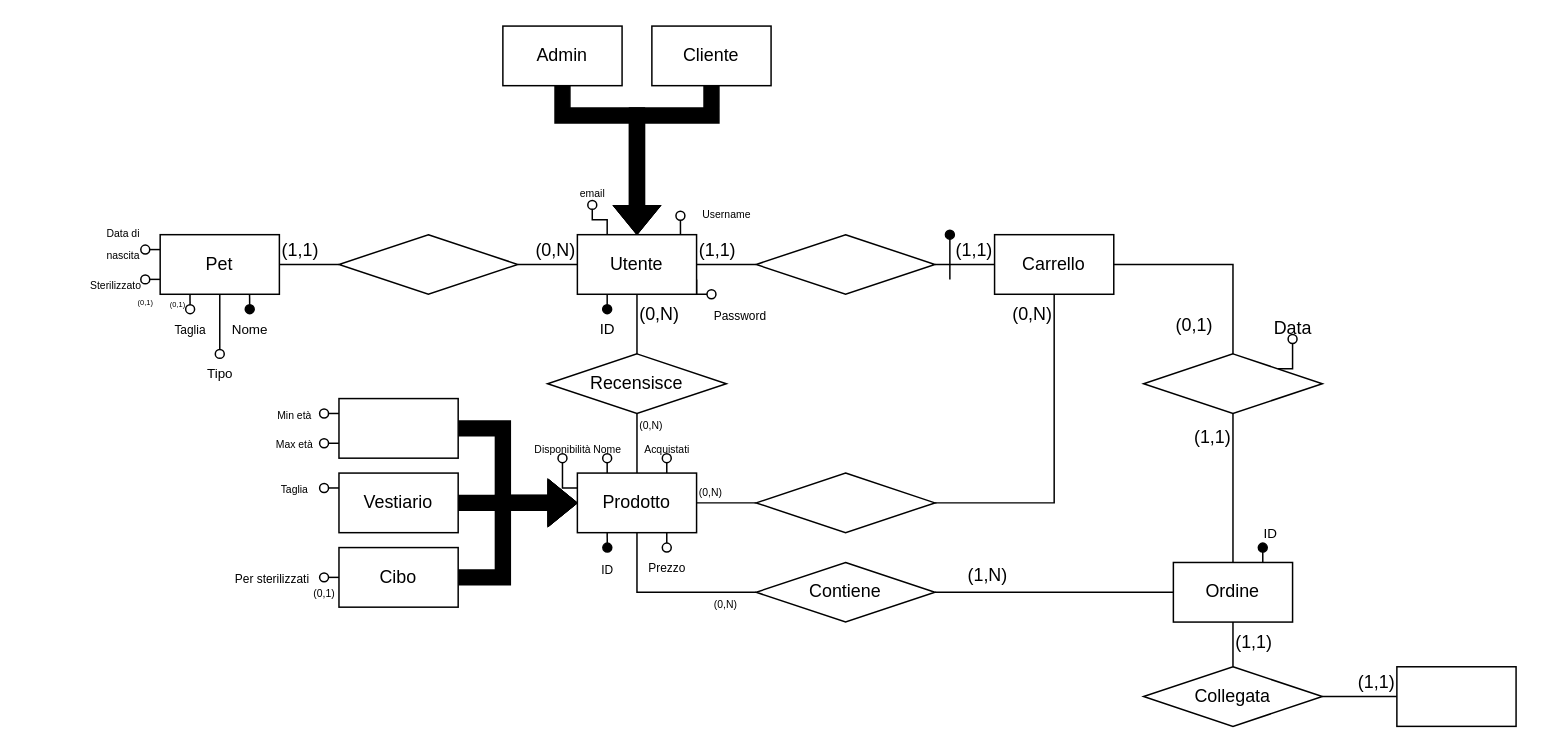
Some shapes in this 1542 by 752 pixel diagram are drawn without their labels. Each missing label, with the box of its shape:
Compone: (755, 233, 935, 294)
Composto: (755, 472, 935, 533)
Fattura: (1395, 665, 1516, 726)
Finalizza: (1142, 352, 1322, 413)
Giocattoli: (337, 397, 458, 458)
Possiede: (337, 233, 518, 294)
